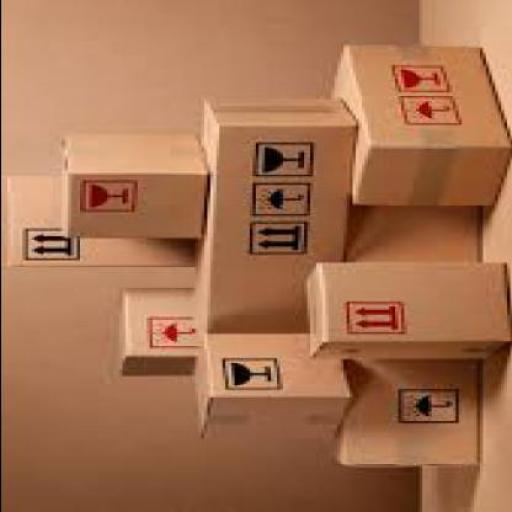cardboard: (192, 96, 352, 336), (327, 42, 509, 204), (297, 260, 509, 356), (3, 174, 200, 267), (191, 332, 346, 438), (327, 360, 475, 466), (61, 130, 206, 238), (342, 201, 485, 262), (112, 286, 201, 375)
